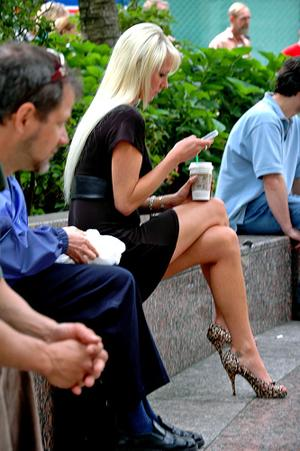person: (66, 23, 287, 395)
